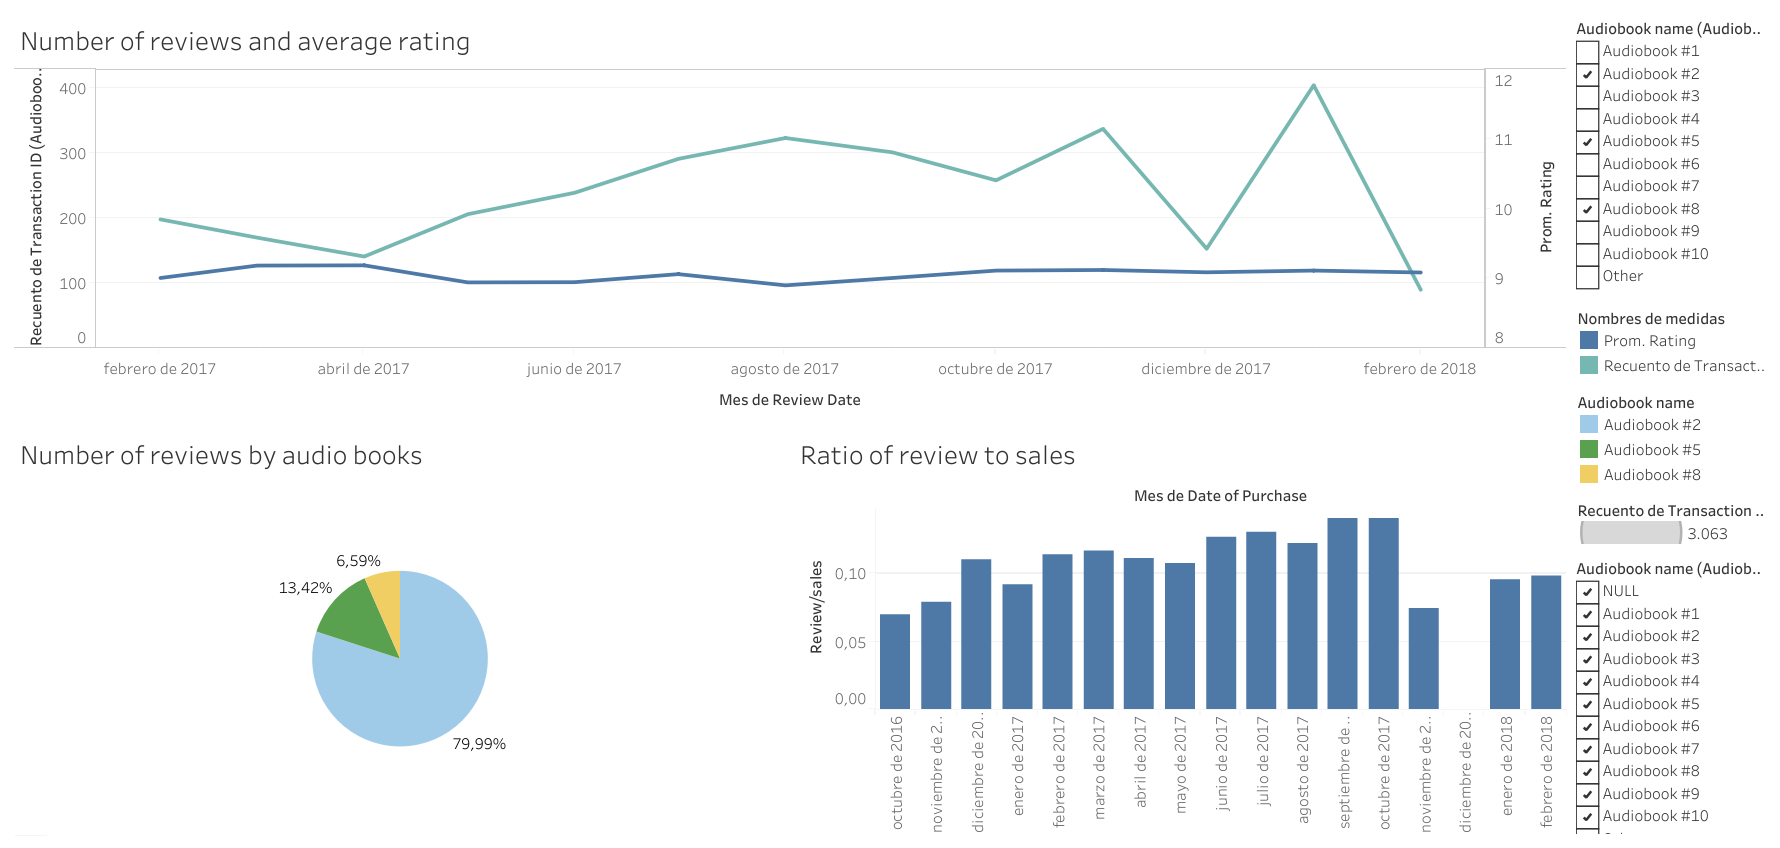

The page's visual inventory and layout, read from the dashboard file:
{"tool":"tableau","page":{"name":"Dashboard 1","canvas":[1000,1000],"units":"permille","ordinal":0},"visuals":[{"type":"worksheet","title":"Hoja 1","mark":"Automatic","rows":["Transaction ID (Audiobook reviews)","Rating"],"cols":["Review Date"],"box":[6,11.8,867.2,488.2]},{"type":"filter","title":"Hoja 1","param":"[federated.1dq1ct00y3x5o51a7w3bo1nvj0j8].[none:Audiobook name (Audiobook reviews","box":[873.2,11.8,120.8,342.4]},{"type":"legend","title":"Hoja 1","param":"[federated.1dq1ct00y3x5o51a7w3bo1nvj0j8].[:Measure Names]","box":[873.2,354.2,120.8,97.2]},{"type":"legend","title":"Hoja 2","param":"[federated.1dq1ct00y3x5o51a7w3bo1nvj0j8].[none:Audiobook name:nk]","box":[873.2,451.4,120.8,126.7]},{"type":"worksheet","title":"Hoja 2","mark":"Pie","box":[6,500,433.6,488.2]},{"type":"worksheet","title":"Hoja 3","mark":"Bar","rows":["Calculation_1144758743958372352"],"cols":["Date of Purchase"],"box":[439.6,500,433.6,488.2]},{"type":"legend","title":"Hoja 2","param":"[federated.1dq1ct00y3x5o51a7w3bo1nvj0j8].[cnt:Transaction ID (Audiobook reviews)","box":[873.2,578.1,120.8,67.7]},{"type":"filter","title":"Hoja 3","param":"[federated.1dq1ct00y3x5o51a7w3bo1nvj0j8].[none:Audiobook name (Audiobook reviews","box":[873.2,645.8,120.8,342.4]}]}

Visuals, with their boxes on the dashboard's canvas, which has no fixed pixel size, in thousandths of its width and height (x1, y1, x2, y2). These are canvas units, not pixel positions in the 1780x848 screenshot, which may show the page scaled, cropped or inside an application window:
"Hoja 1" worksheet: <region>6, 12, 873, 500</region>
"Hoja 1" filter: <region>873, 12, 994, 354</region>
"Hoja 1" legend: <region>873, 354, 994, 451</region>
"Hoja 2" legend: <region>873, 451, 994, 578</region>
"Hoja 2" worksheet (Pie marks): <region>6, 500, 440, 988</region>
"Hoja 3" worksheet (Bar marks): <region>440, 500, 873, 988</region>
"Hoja 2" legend: <region>873, 578, 994, 646</region>
"Hoja 3" filter: <region>873, 646, 994, 988</region>
